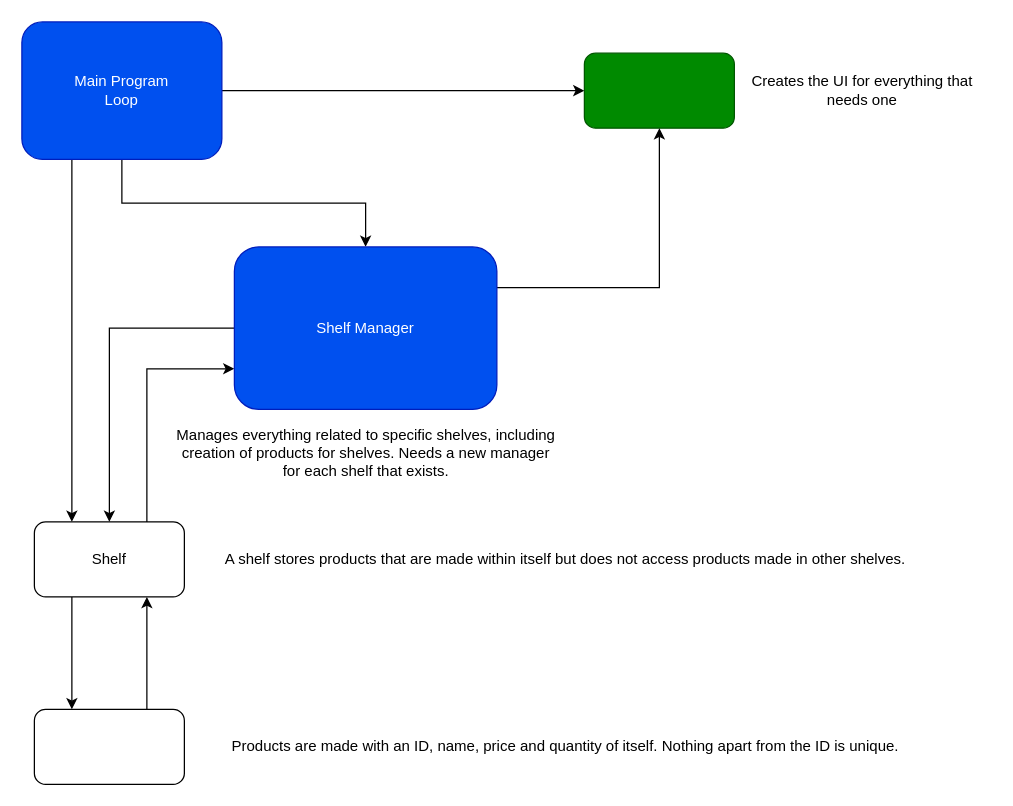
The diagram is 1013 pixels wide and 806 high, and some of its shapes have lost their labels. The box of each missing label's shape, as (x1, y1, x2, y2) in pixels:
Menu Builder: (583, 52, 734, 128)
Product: (33, 708, 184, 784)
